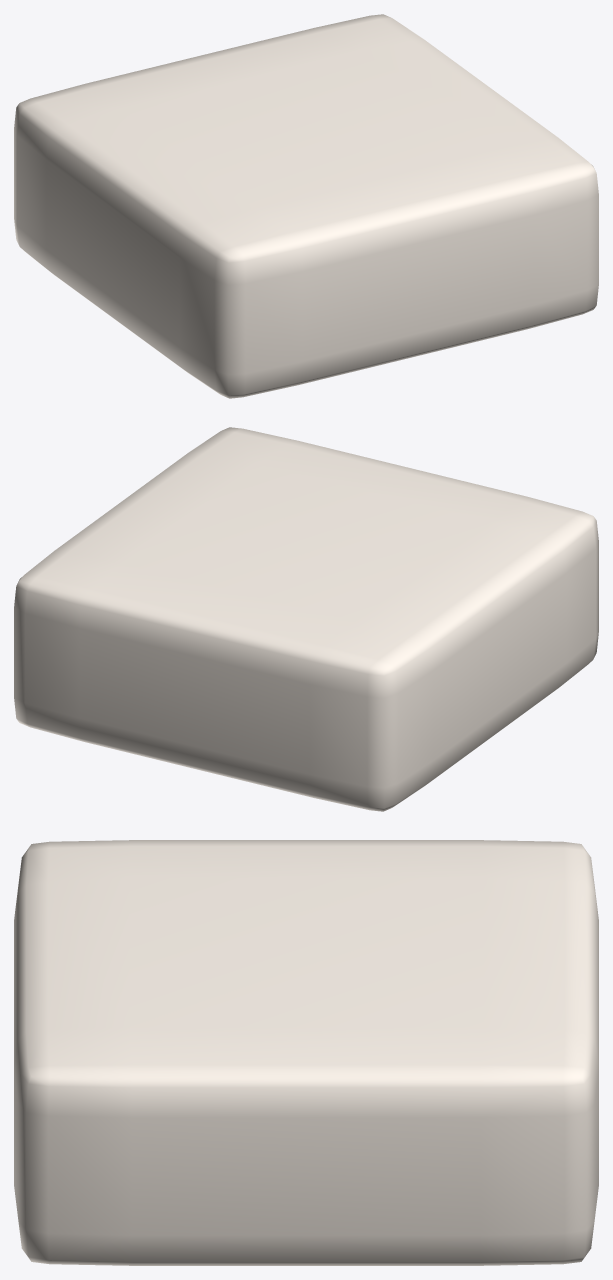
File: newtile#1.fbx
3 renders of one model, top to bottom at view 1: azimuth 30°, elevation 25°; view 2: azimuth 150°, elevation 25°; view 3: azimuth 270°, elevation 25°, orthographic. The views are drawn at different scales.
Parts seen in each view (by area): view 1: tILE.001; view 2: tILE.001; view 3: tILE.001.
Boxes of the visible parts, left/top/right/bottom form: tILE.001: left=14, top=14, right=598, bottom=398; tILE.001: left=14, top=427, right=598, bottom=811; tILE.001: left=14, top=840, right=598, bottom=1265.
Size of the model in its own units: 13.6 by 5.15 by 13.6.
